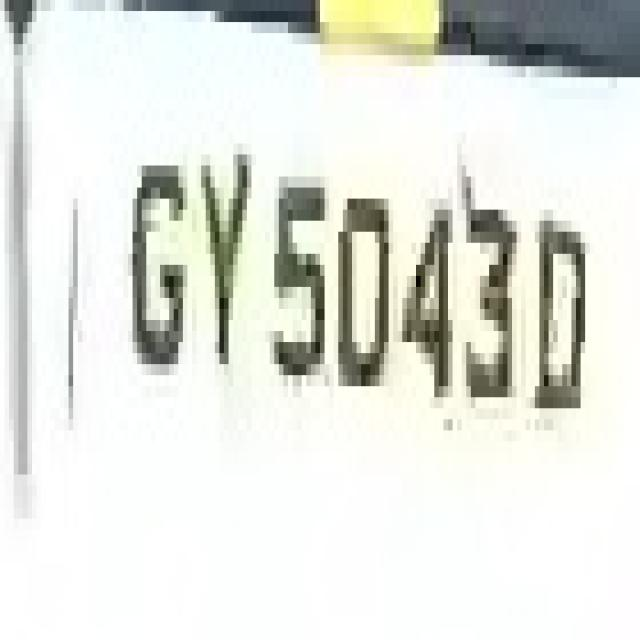0: (324, 132, 398, 398)
3: (462, 122, 516, 430)
4: (393, 132, 457, 408)
5: (265, 132, 334, 386)
D: (530, 176, 608, 474)
G: (114, 132, 188, 386)
Y: (183, 100, 256, 398)
